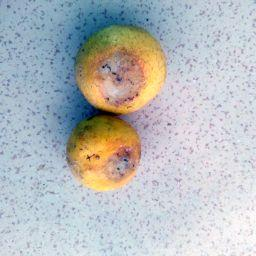lemon: (72, 20, 169, 116), (63, 111, 145, 194)
